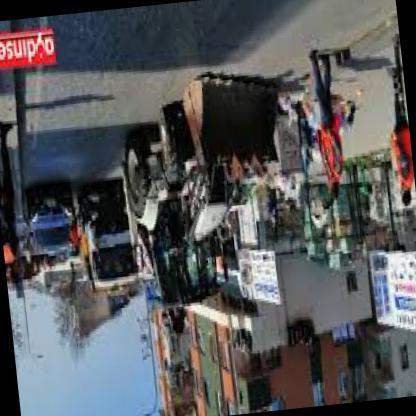Garbage: (335, 92, 356, 127), (278, 88, 299, 112)
